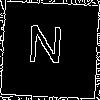N: (25, 25, 65, 73)
